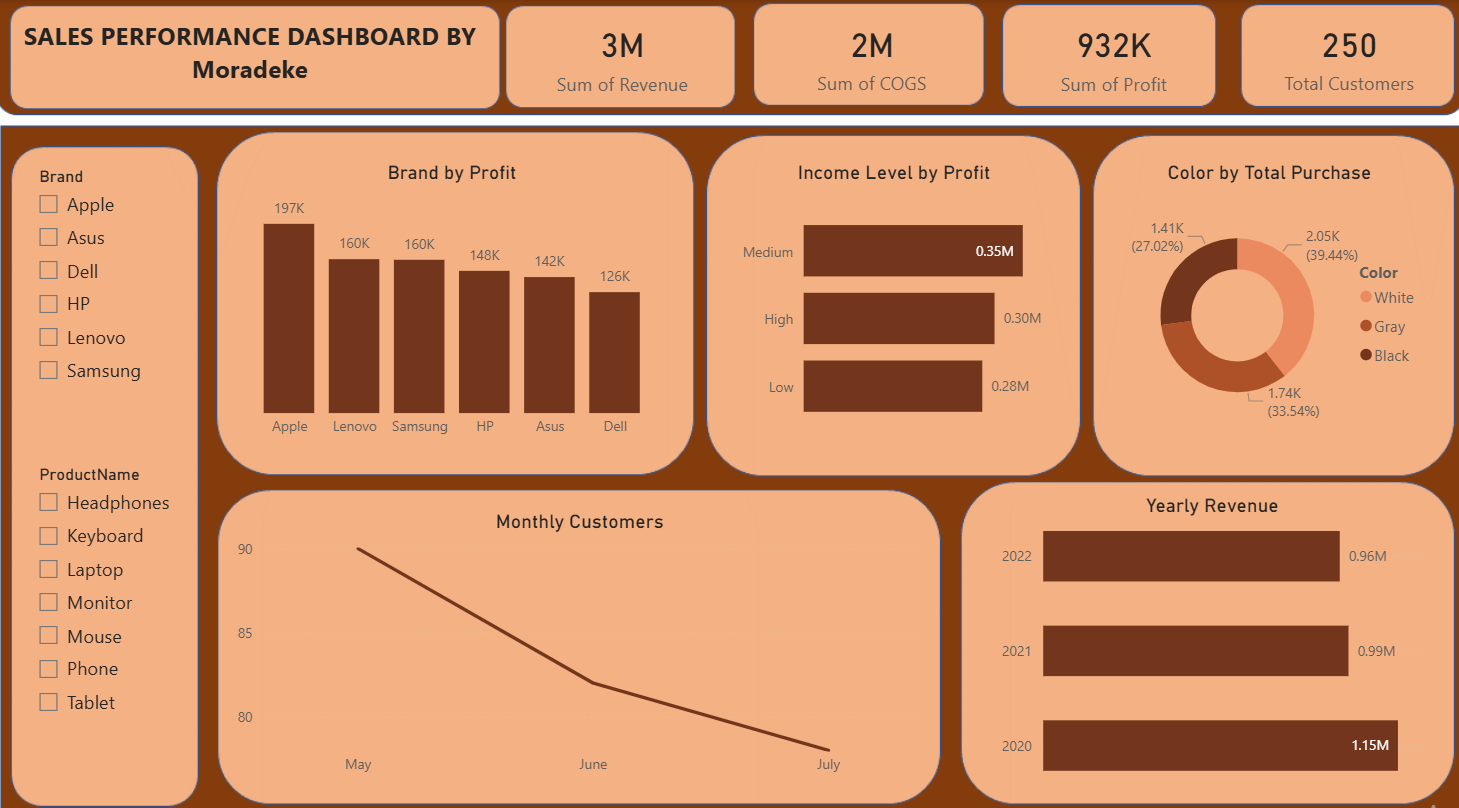

What the dashboard file says about the page in this screenshot:
{"tool":"powerbi","page":{"name":"Page 1","canvas":[1280,720],"ordinal":0},"visuals":[{"type":"columnChart","title":"Brand by Profit","fields":{"Category":["Products.Brand"],"Y":["Sum(Sales.Profit)"]},"box":[205.9,139.3,384.6,249.8],"z":0},{"type":"barChart","title":"Income Level by Profit","fields":{"Category":["Customers.IncomeLevel"],"Y":["Sum(Sales.Profit)"]},"box":[640.5,139.3,284.7,249.8],"z":1000},{"type":"barChart","title":"Yearly Revenue","fields":{"Category":["Customers.Year"],"Y":["Sum(Sales.Revenue)"]},"box":[869.2,430,381.6,254.4],"z":2000},{"type":"lineChart","title":"Monthly Customers","fields":{"Category":["Customers.Month"],"Y":["Sales.Total Customers"]},"box":[205.9,445.2,607.2,239.2],"z":3000},{"type":"donutChart","title":"Color by Total Purchase","fields":{"Category":["Products.Color"],"Y":["CountNonNull(Sales.COGS)"]},"box":[970.6,139.3,280.1,249.8],"z":4000},{"type":"card","fields":{"Values":["Sum(Sales.Profit)"]},"box":[887.3,10.6,172.6,75.7],"z":5000},{"type":"card","fields":{"Values":["Sales.Total Customers"]},"box":[1093.3,9.1,172.6,77.2],"z":6000},{"type":"card","fields":{"Values":["Sum(Sales.COGS)"]},"box":[669.3,9.1,187.8,77.2],"z":7000},{"type":"card","fields":{"Values":["Sum(Sales.Revenue)"]},"box":[451.2,10.6,189.3,75.7],"z":8000},{"type":"slicer","fields":{"Values":["Products.ProductName"]},"box":[24.2,399.8,140.8,284.7],"z":9000},{"type":"slicer","fields":{"Values":["Products.Brand"]},"box":[24.2,139.3,140.8,249.8],"z":10000},{"type":"textbox","box":[13.6,10.6,416.4,75.7],"z":11000}]}

Visuals, with their boxes in screenshot pixels (x1, y1, x2, y2), scaled from the page's 1280x720 canvas onto the 1459x808 screenshot:
"Brand by Profit" columnChart: {"left": 235, "top": 156, "right": 673, "bottom": 437}
"Income Level by Profit" barChart: {"left": 730, "top": 156, "right": 1055, "bottom": 437}
"Yearly Revenue" barChart: {"left": 991, "top": 483, "right": 1426, "bottom": 768}
"Monthly Customers" lineChart: {"left": 235, "top": 500, "right": 927, "bottom": 768}
"Color by Total Purchase" donutChart: {"left": 1106, "top": 156, "right": 1426, "bottom": 437}
card - Sum(Sales.Profit): {"left": 1011, "top": 12, "right": 1208, "bottom": 97}
card - Sales.Total Customers: {"left": 1246, "top": 10, "right": 1443, "bottom": 97}
card - Sum(Sales.COGS): {"left": 763, "top": 10, "right": 977, "bottom": 97}
card - Sum(Sales.Revenue): {"left": 514, "top": 12, "right": 730, "bottom": 97}
slicer - Products.ProductName: {"left": 28, "top": 449, "right": 188, "bottom": 768}
slicer - Products.Brand: {"left": 28, "top": 156, "right": 188, "bottom": 437}
textbox: {"left": 16, "top": 12, "right": 490, "bottom": 97}
